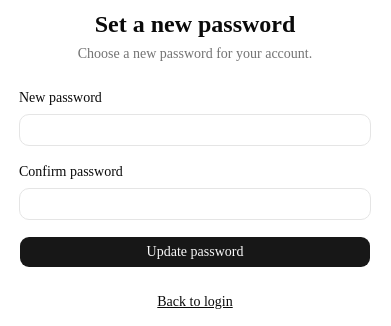
<ResetPasswordForm /> › submits both fields and shows the success message with a login link
In the password field labelled "New password": (195, 130) [19, 114, 371, 146], type "abcdef"
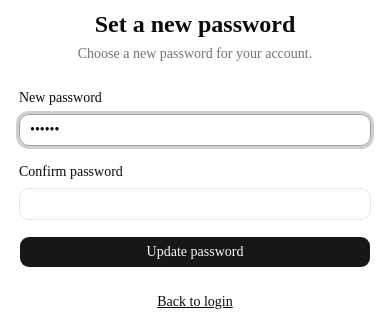
In the password field labelled "Confirm password": (195, 204) [19, 188, 371, 220], type "abcdef"
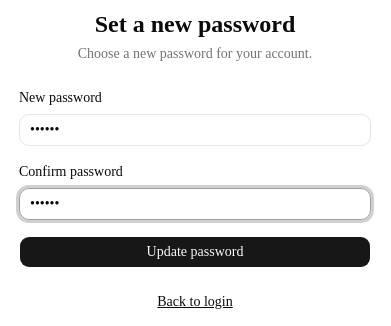
Click the button "Update password": click(195, 252) [19, 236, 371, 268]
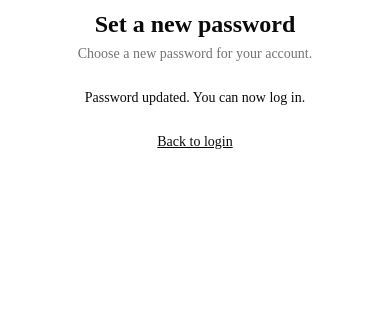
Expected: the text "Password updated. You can now log in." is shown, [85, 90, 305, 105]
